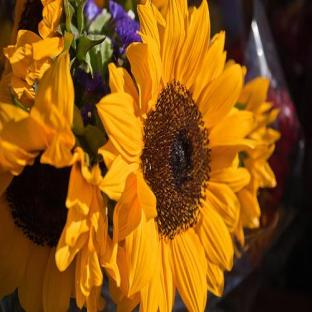sunflower: (95, 0, 251, 312)
